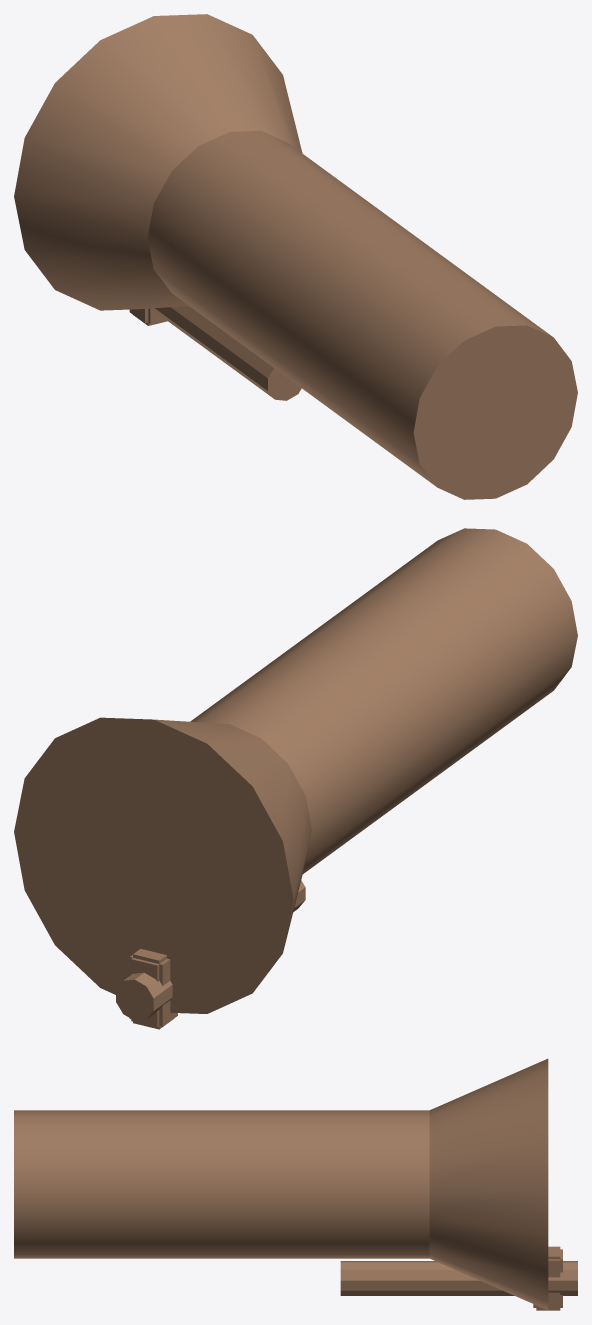
Rendered from flamethrower_nozzle.glb.
3 renders of one model, top to bottom at view 1: azimuth 30°, elevation 25°; view 2: azimuth 150°, elevation 25°; view 3: azimuth 270°, elevation 25°, orthographic. The views are drawn at different scales.
Visible parts, largest first — view 1: flamethrower_nozzle; view 2: flamethrower_nozzle; view 3: flamethrower_nozzle.
Part boxes in pixels (box(x1,y1,x2,y2)): flamethrower_nozzle: box(14, 14, 577, 499); flamethrower_nozzle: box(14, 528, 577, 1029); flamethrower_nozzle: box(14, 1058, 577, 1310).
Bounding box in the file's own units: 0.17 × 0.175 × 0.38.
